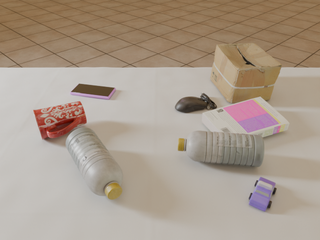book: (202, 97, 289, 137)
bottle: (66, 128, 123, 199), (178, 131, 264, 167)
box: (210, 43, 282, 103)
cup: (33, 101, 87, 140)
mouse: (175, 93, 217, 112)
phone: (70, 84, 116, 99)
toy_car: (249, 177, 277, 211)
